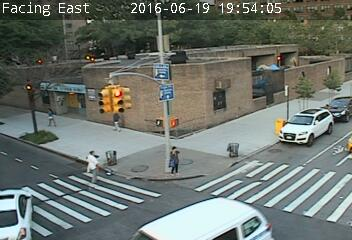neg: (206, 58, 239, 102), (137, 41, 166, 80), (266, 95, 293, 131), (58, 75, 84, 110), (222, 124, 246, 156), (167, 48, 190, 78), (141, 103, 162, 132), (267, 54, 287, 81), (82, 83, 99, 105)
pos: (78, 147, 106, 185), (162, 144, 187, 177), (108, 109, 125, 132), (41, 107, 57, 129)
